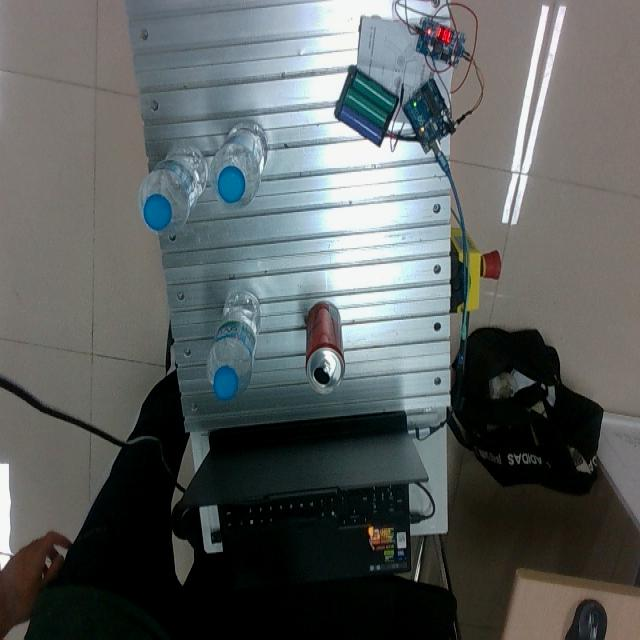coca: (305, 301, 346, 396)
lavie: (139, 147, 210, 237), (207, 289, 262, 400), (210, 123, 267, 212)
